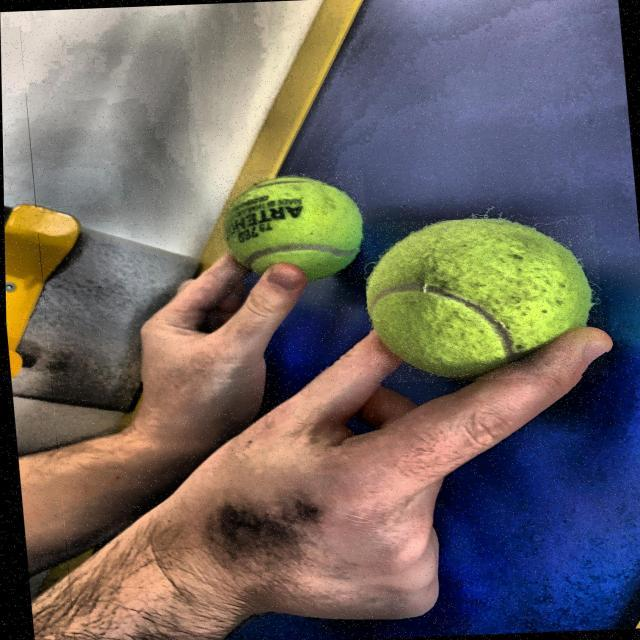tennis-ball: (358, 214, 608, 384), (208, 170, 372, 286)
